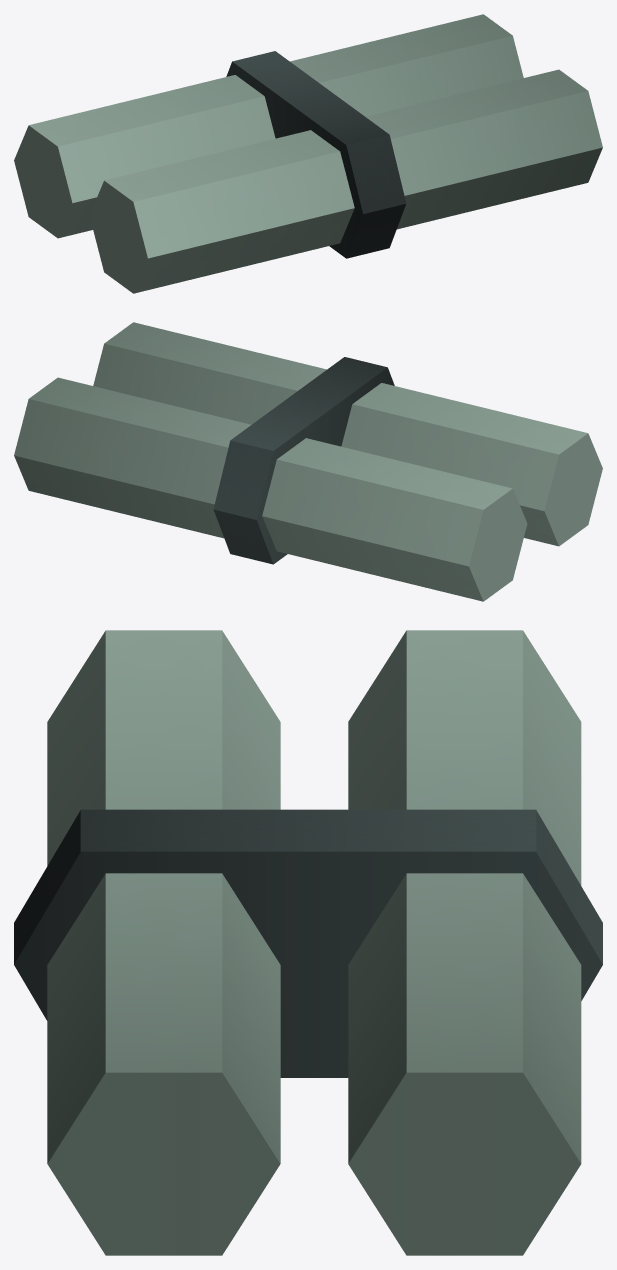
3 views of the same model, one above another, from view 1: azimuth 30°, elevation 25°; view 2: azimuth 150°, elevation 25°; view 3: azimuth 270°, elevation 25° (orthographic). The views are drawn at different scales.
Visible parts, largest first — view 1: object.011; view 2: object.011; view 3: object.011.
Boxes of the visible parts, box(x1,y1,x2,y2) form: object.011: box(14, 14, 602, 293); object.011: box(14, 322, 602, 601); object.011: box(14, 630, 602, 1255).
Size of the model in its own units: 89.15 by 21.26 by 50.18.
